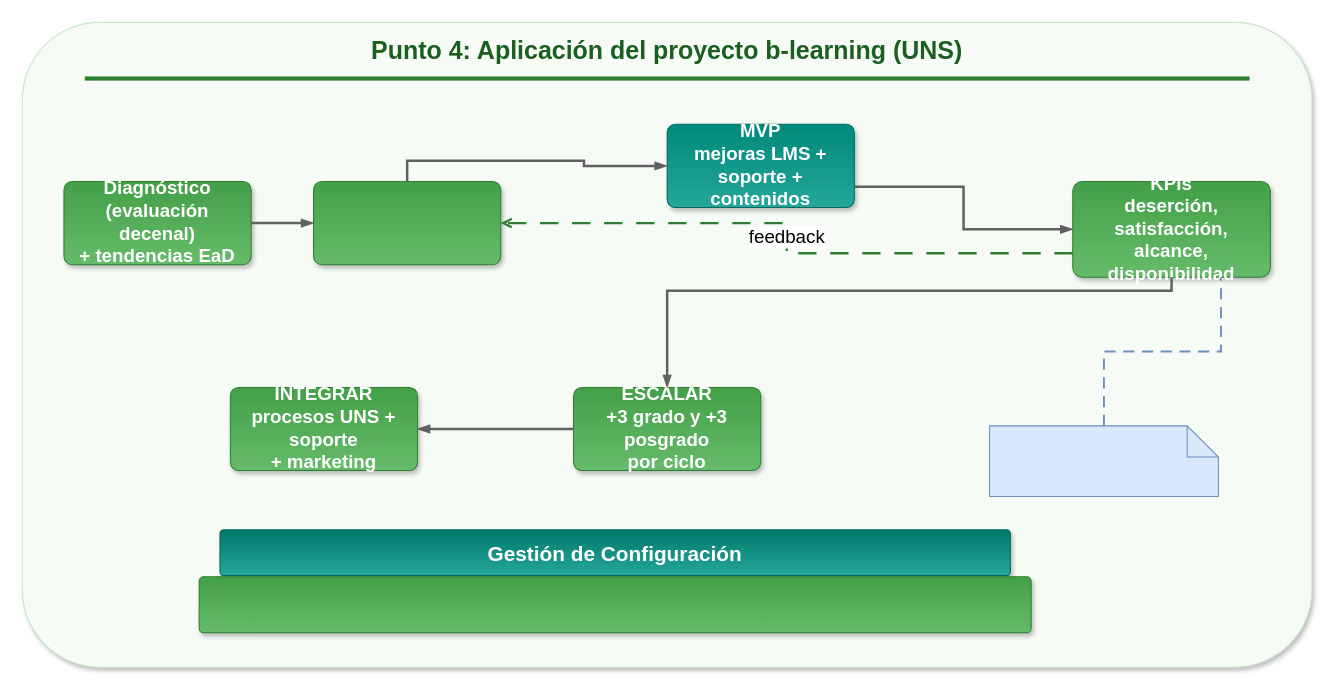
Some shapes in this 1336 by 693 pixel diagram are drawn without their labels. Here are the shapes that lost their labels. From the top down, the centre of each, then its label:
At point 407,224: "PROBAR piloto 1 cohorte (1–2 programas)".
At point 1103,461: "KPI OK: escalar KPI NO: ajustar y repetir".
At point 615,605: "Aseguramiento de la Calidad".
